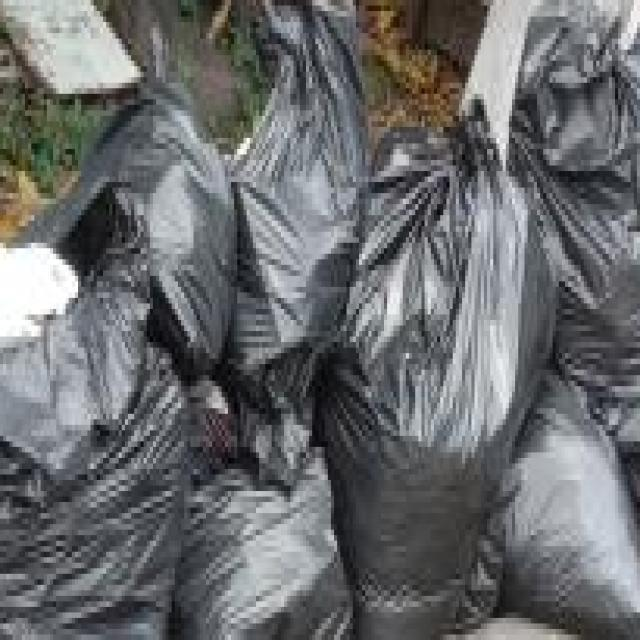Trashbag: (343, 117, 565, 640), (0, 281, 191, 637), (220, 13, 374, 414), (55, 85, 236, 331), (169, 453, 361, 634)
